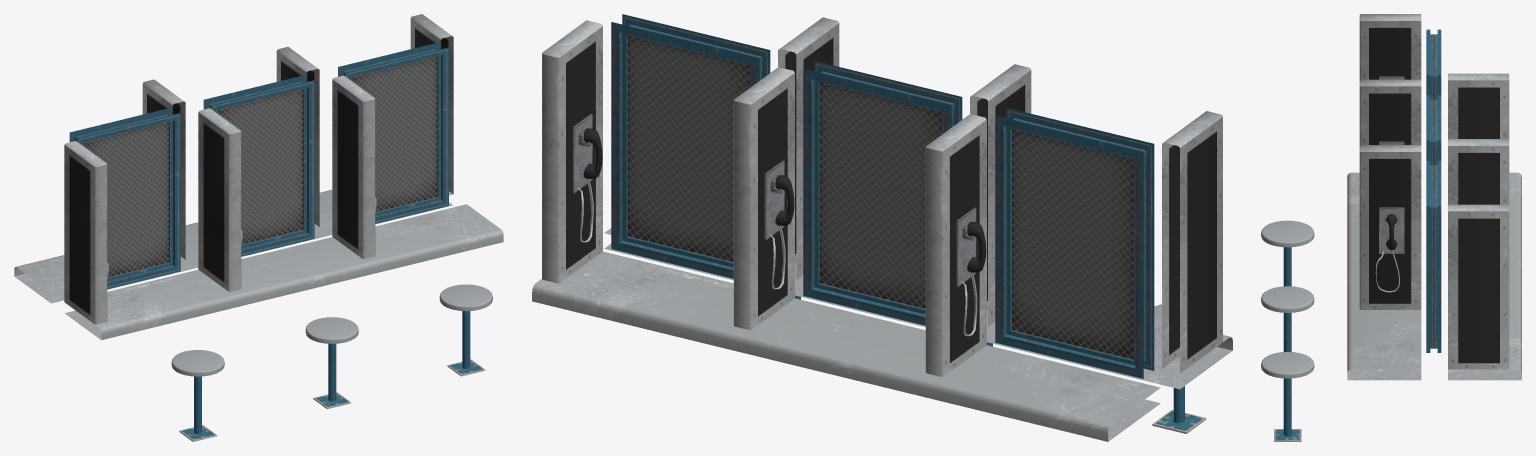
Rendered from SM_Visitation_Props.fbx.
3 renders of one model, left to right at view 1: azimuth 30°, elevation 25°; view 2: azimuth 150°, elevation 25°; view 3: azimuth 270°, elevation 25°, orthographic. The views are drawn at different scales.
Visible parts, largest first — view 1: SM_Visitation_Props_LOD0; view 2: SM_Visitation_Props_LOD0; view 3: SM_Visitation_Props_LOD0.
Boxes of the visible parts, <box> form: SM_Visitation_Props_LOD0: <box>14,14,503,441</box>; SM_Visitation_Props_LOD0: <box>532,14,1232,441</box>; SM_Visitation_Props_LOD0: <box>1261,14,1521,441</box>.
Bounding box in the file's own units: 350 × 196 × 214.
2 materials, 2 textured.
